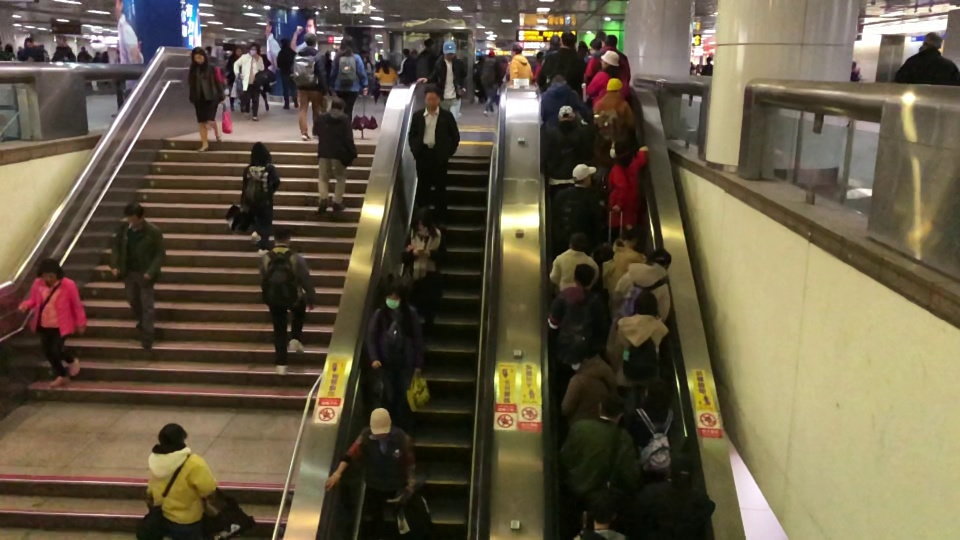person_head: (586, 491, 616, 527), (368, 406, 393, 439), (667, 453, 692, 483), (36, 256, 62, 284), (156, 423, 187, 446), (645, 377, 670, 405), (599, 393, 624, 420), (571, 162, 596, 188), (632, 290, 658, 315), (384, 279, 404, 310), (123, 200, 145, 228), (573, 263, 596, 286), (249, 140, 271, 163), (421, 83, 440, 107), (650, 249, 673, 268), (609, 135, 628, 157), (416, 207, 431, 234), (600, 49, 619, 70), (586, 335, 603, 358), (273, 225, 292, 245), (627, 231, 646, 250), (922, 31, 942, 49), (569, 232, 586, 252), (338, 33, 355, 52), (606, 77, 624, 94), (556, 105, 575, 121), (192, 47, 207, 65), (442, 41, 456, 59), (559, 33, 574, 48), (329, 98, 346, 111), (588, 38, 601, 55), (303, 32, 317, 47), (603, 33, 616, 47), (248, 42, 259, 55), (512, 43, 523, 55), (552, 73, 564, 84), (549, 36, 560, 47), (422, 38, 434, 48), (56, 36, 66, 47), (280, 37, 290, 48), (381, 59, 390, 68), (234, 46, 241, 56), (402, 47, 409, 57), (487, 50, 495, 58), (27, 39, 33, 47), (852, 59, 856, 70), (706, 55, 711, 63)
person_vbox: (325, 407, 416, 535), (17, 257, 87, 390), (258, 225, 316, 378), (144, 422, 219, 540), (109, 200, 166, 355), (558, 392, 638, 499), (407, 83, 461, 230), (366, 279, 425, 412), (605, 248, 671, 357), (634, 452, 715, 540), (400, 206, 447, 341), (547, 263, 606, 365), (613, 289, 669, 394), (628, 376, 685, 475), (311, 97, 357, 215), (560, 335, 616, 422), (241, 140, 280, 254), (606, 134, 650, 231), (542, 105, 591, 192), (416, 41, 467, 120), (187, 47, 224, 153), (553, 163, 600, 244), (293, 31, 328, 139), (592, 78, 635, 164), (895, 31, 959, 86), (549, 231, 600, 293), (330, 33, 369, 113), (602, 231, 646, 298), (582, 50, 628, 105), (233, 42, 264, 120), (584, 35, 631, 84), (540, 72, 586, 121), (541, 33, 584, 85), (276, 37, 299, 111), (481, 49, 499, 117), (225, 44, 242, 114), (846, 58, 861, 126), (374, 59, 397, 101), (509, 42, 533, 80), (415, 38, 437, 79), (52, 36, 76, 62), (397, 48, 414, 83), (23, 38, 43, 62), (701, 55, 713, 76)
